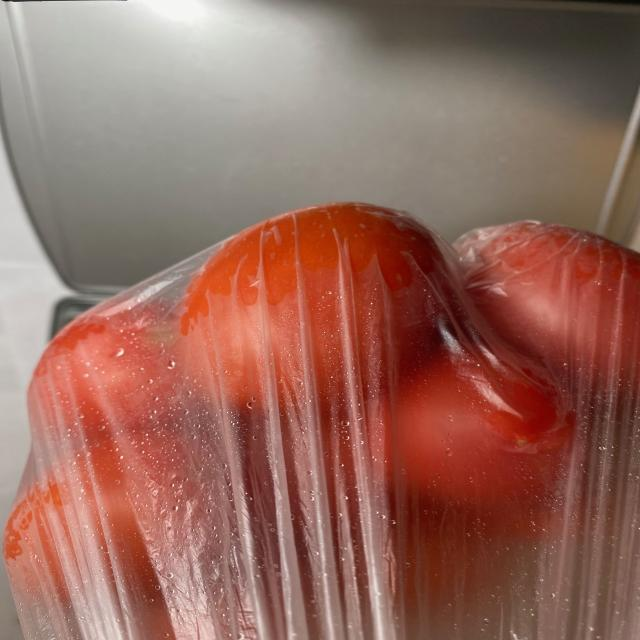tomato: (0, 207, 635, 619)
